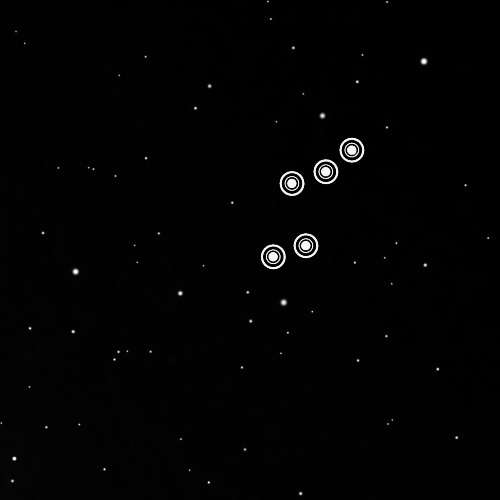lyra: (250, 124, 372, 283)
